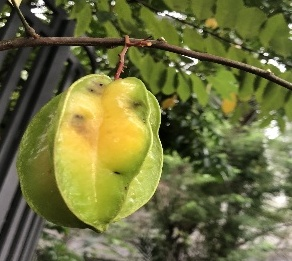Khe: (14, 73, 164, 233)
